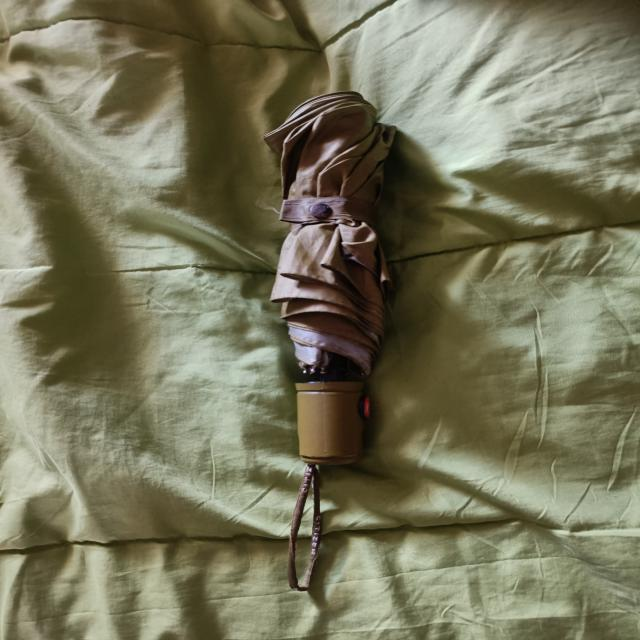umbrella: (267, 87, 402, 469)
